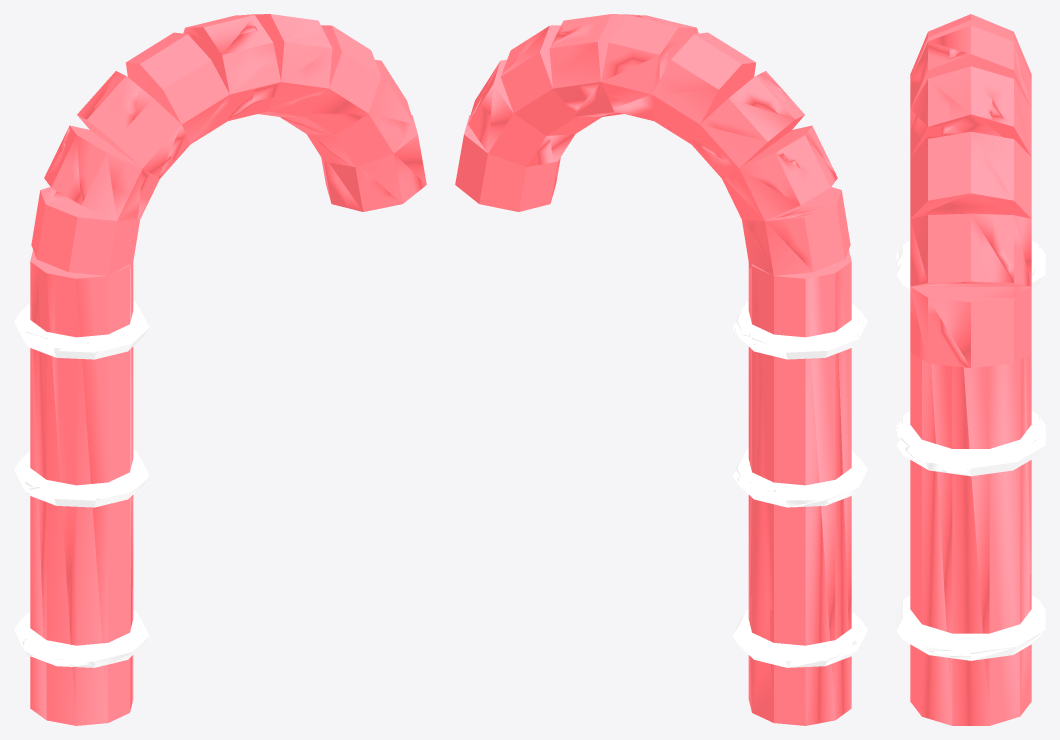
The model's file is xmas_candy_cane.glb.
3 renders of one model, left to right at view 1: azimuth 30°, elevation 25°; view 2: azimuth 150°, elevation 25°; view 3: azimuth 270°, elevation 25°, orthographic. The views are drawn at different scales.
Visible parts, largest first — view 1: CandyCane; view 2: CandyCane; view 3: CandyCane.
Part boxes in pixels (<box>): CandyCane: <box>14,14,426,725</box>; CandyCane: <box>455,14,867,725</box>; CandyCane: <box>896,14,1045,725</box>.
Bounding box in the file's own units: 1.35 × 2.1 × 0.3804.
